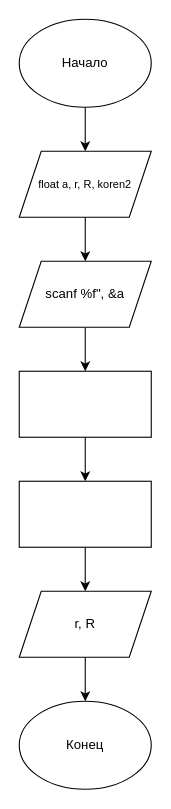
This 171x809 diagram has some shape labels left out. The centre of each missing label's shape, as x and y in pixels:
"R = (a * koren2) / 2.0" belongs at (84,513).
"r = a / 2.0" belongs at (84,403).
